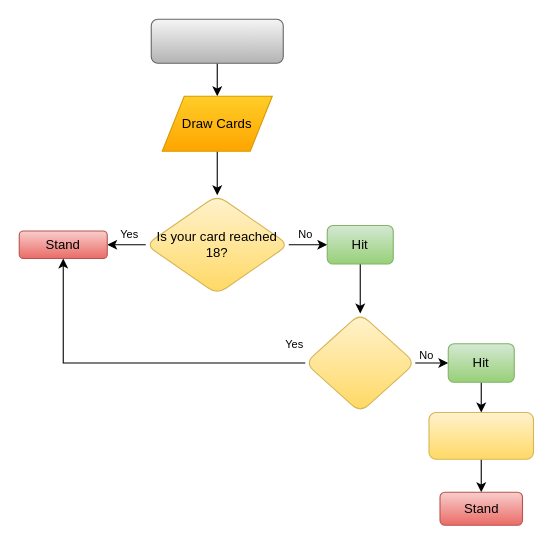
Some shapes in this 553 by 545 pixel diagram are drawn without their labels. Here are the shapes that lost their labels. From the top down, the box of each, then its label:
(150, 18, 283, 63): Black Jack
(304, 312, 415, 413): Is your card reached 20?
(428, 411, 534, 459): You reached 21 cards
